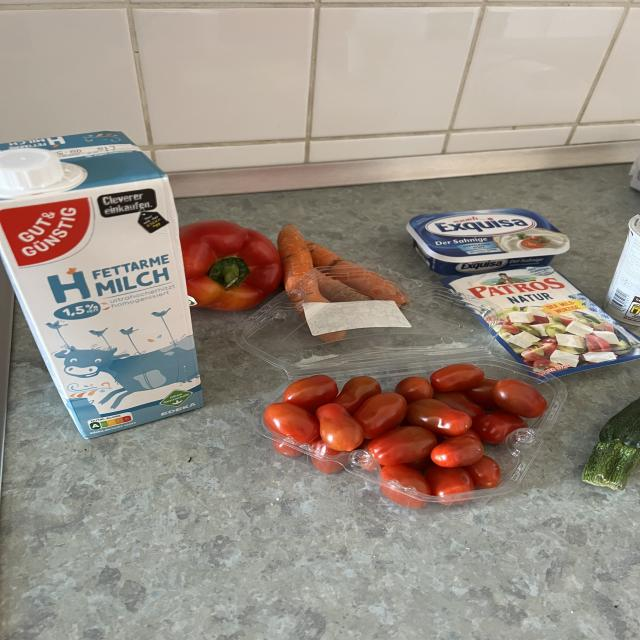bell_pepper: (175, 216, 280, 318)
carrot: (284, 227, 354, 349), (304, 233, 416, 306)
tomato: (256, 352, 576, 507)
